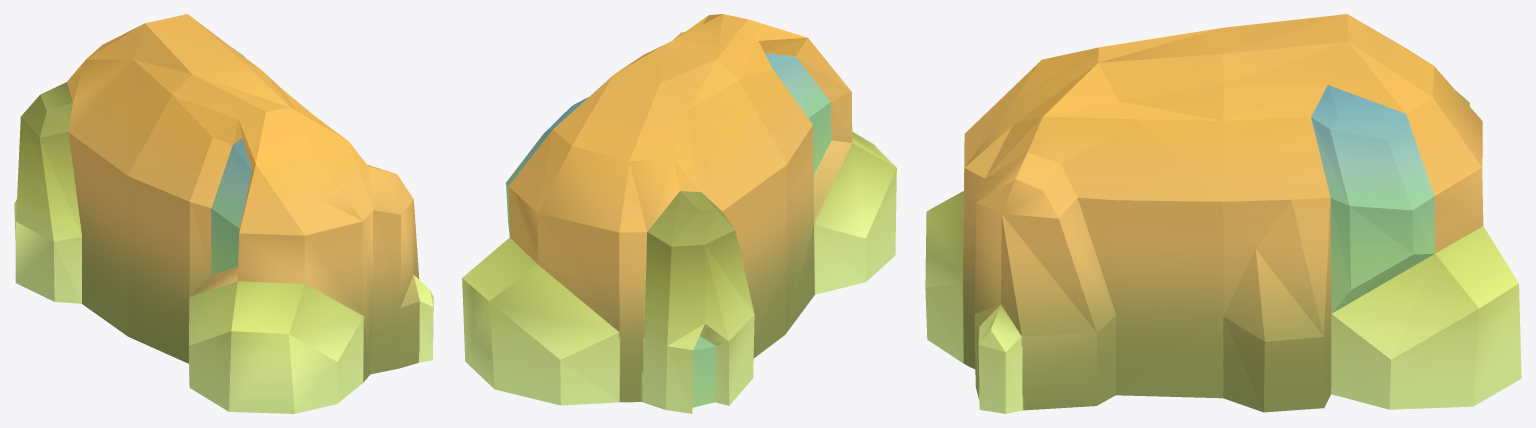
File: SM_APP_Gas_Cliff_A.glb
The picture shows the model from 3 angles, left to right: view 1: azimuth 30°, elevation 25°; view 2: azimuth 150°, elevation 25°; view 3: azimuth 270°, elevation 25°; orthographic projection. The views are drawn at different scales.
Visible parts, largest first — view 1: SM_APP_Gas_Cliff_A; view 2: SM_APP_Gas_Cliff_A; view 3: SM_APP_Gas_Cliff_A.
Boxes of the visible parts, x1,y1,x2,y2 form: SM_APP_Gas_Cliff_A: (14, 14, 433, 413); SM_APP_Gas_Cliff_A: (462, 14, 896, 413); SM_APP_Gas_Cliff_A: (925, 14, 1521, 413).
Size of the model in its own units: 22 by 22.22 by 38.09.
1 material, 1 textured.
